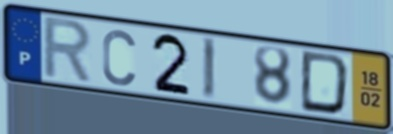2: (150, 32, 192, 98)
8: (251, 44, 295, 109)
C: (100, 26, 138, 88)
D: (298, 48, 352, 117)
I: (200, 34, 218, 103)
R: (40, 15, 95, 88)
